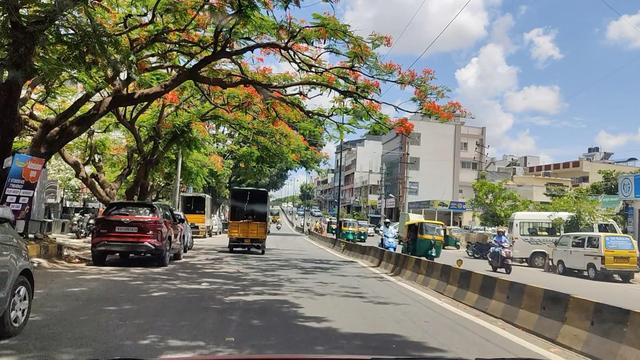HMV: (231, 183, 263, 251)
LMV: (98, 200, 163, 259)
